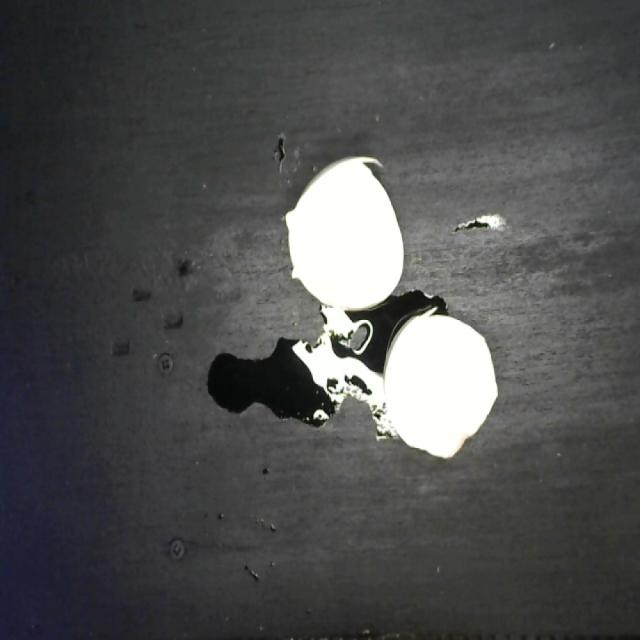biodegradable: (282, 147, 502, 464)
